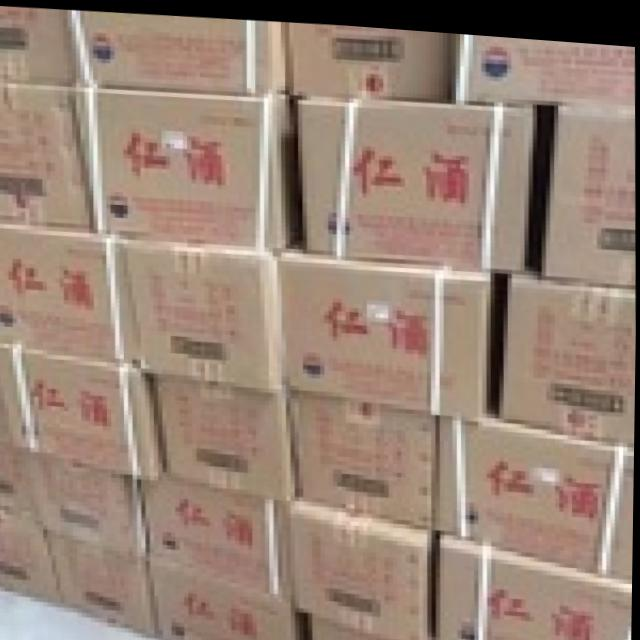box: (294, 90, 537, 266), (282, 235, 495, 418), (76, 81, 303, 247), (433, 401, 635, 573), (128, 229, 287, 388), (500, 266, 636, 437), (0, 339, 168, 477), (437, 527, 634, 640), (287, 492, 437, 640), (291, 389, 440, 523), (0, 219, 137, 361), (150, 370, 300, 495), (533, 100, 636, 279), (146, 473, 292, 598), (67, 8, 289, 89), (451, 27, 635, 100), (0, 82, 90, 227), (31, 455, 151, 558), (289, 17, 451, 92), (151, 562, 305, 640), (44, 528, 160, 631), (0, 6, 76, 81), (0, 519, 62, 606), (0, 446, 44, 528), (309, 607, 418, 640)
